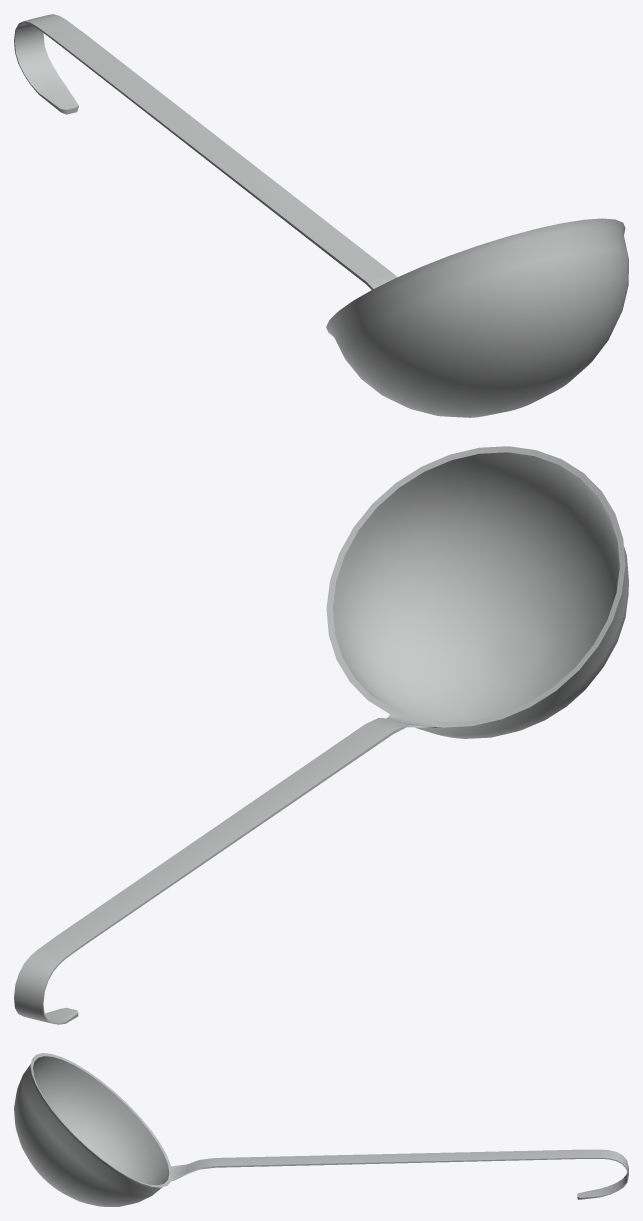
Rendered from Prop_Kitchen_Ladle.fbx.
3 views of the same model, one above another, from view 1: azimuth 30°, elevation 25°; view 2: azimuth 150°, elevation 25°; view 3: azimuth 270°, elevation 25° (orthographic). The views are drawn at different scales.
Parts seen in each view (by area): view 1: Prop_Kitchen_Ladle; view 2: Prop_Kitchen_Ladle; view 3: Prop_Kitchen_Ladle.
Part boxes in pixels (bbox=[...]): Prop_Kitchen_Ladle: bbox=[14, 14, 628, 417]; Prop_Kitchen_Ladle: bbox=[14, 446, 628, 1024]; Prop_Kitchen_Ladle: bbox=[14, 1053, 628, 1206].
Size of the model in its own units: 5.41 by 4.25 by 17.86.
